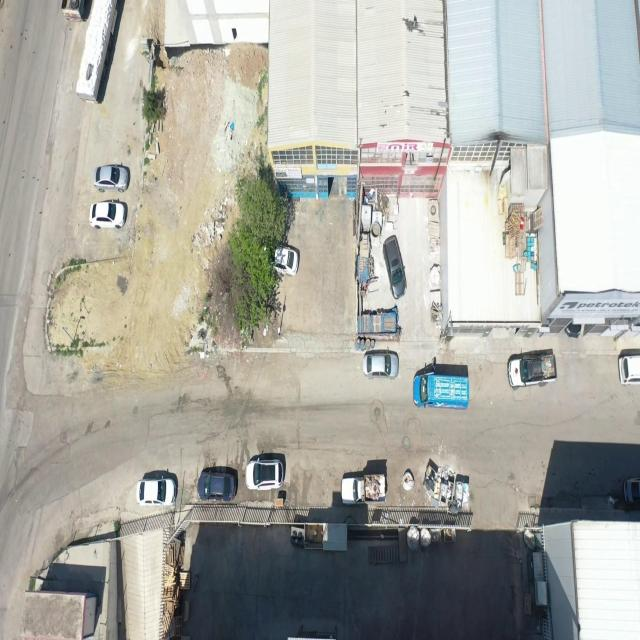p3rson: (431, 361, 436, 373)
